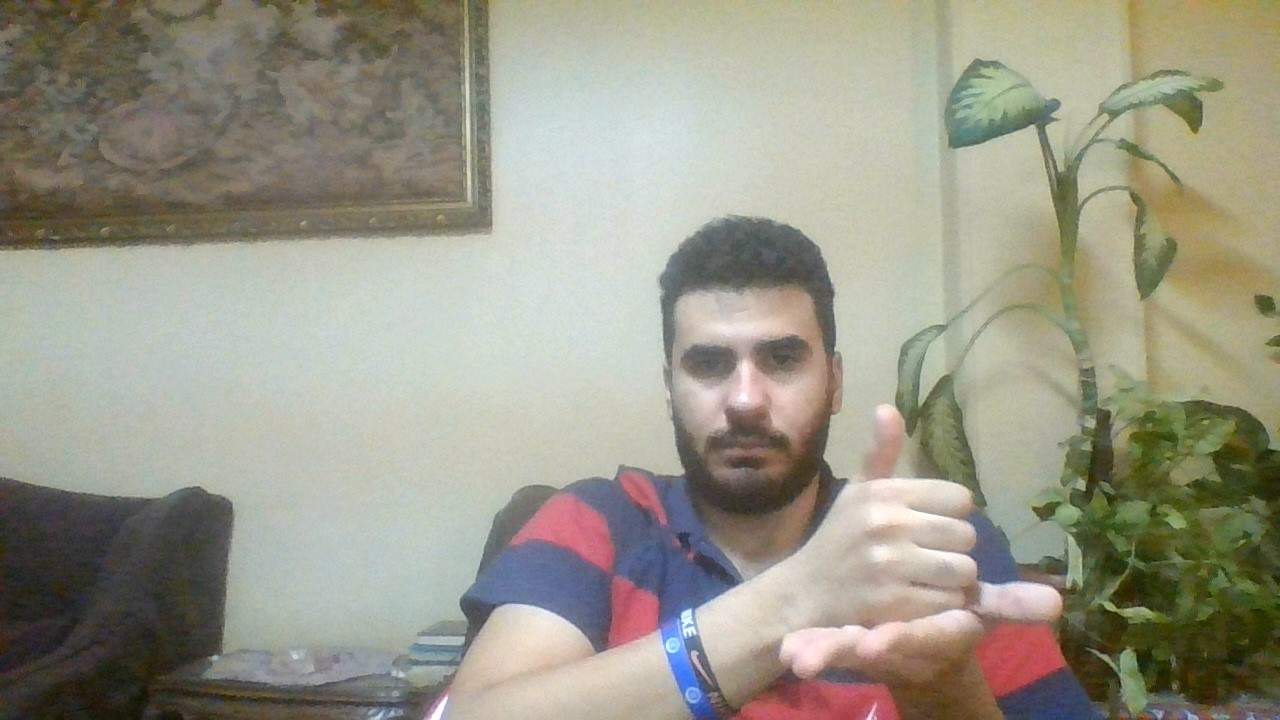help: (793, 402, 1069, 685)
